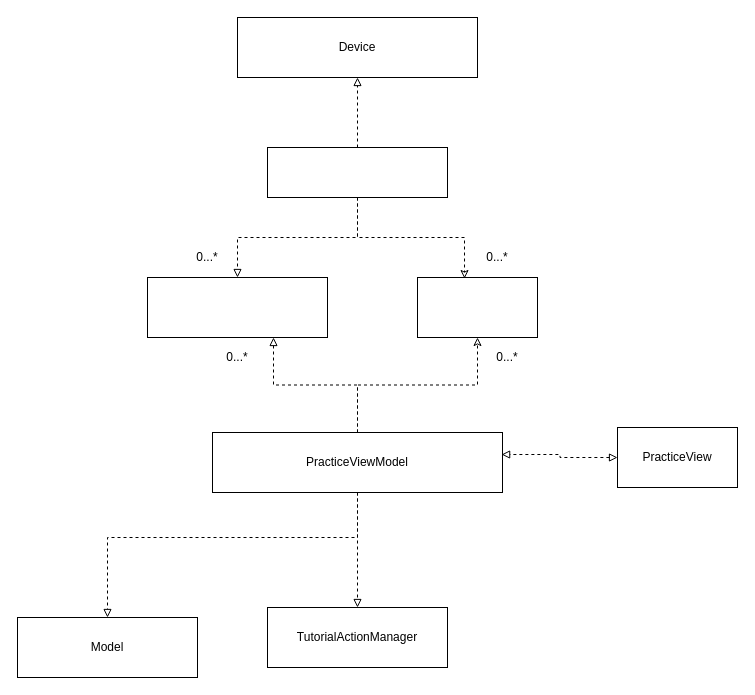
This 755x695 diagram has some shape labels left out. Here are the shapes that lost their labels. From the top down, the box of each, then its label:
(266, 146, 448, 198): MainCamera
(146, 276, 328, 338): Image
(416, 276, 538, 338): BodyData
